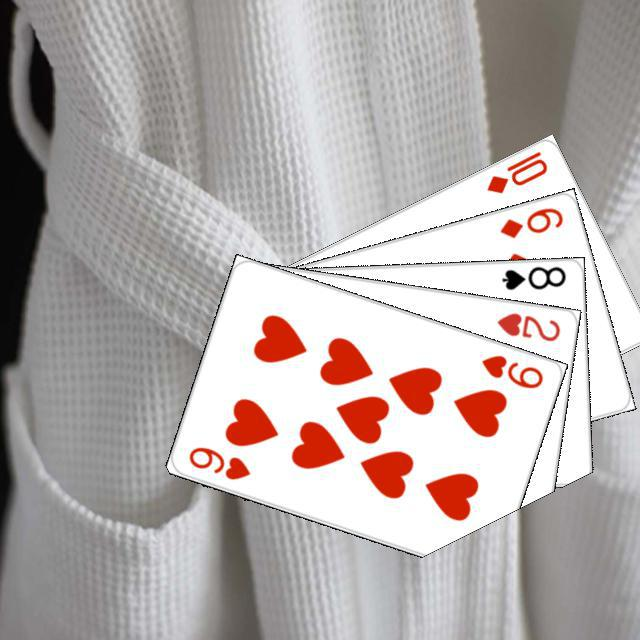10d: (481, 146, 549, 196)
2h: (492, 308, 562, 343)
6d: (494, 202, 565, 240)
8s: (497, 262, 567, 291)
9h: (476, 349, 545, 391), (183, 442, 253, 482)
